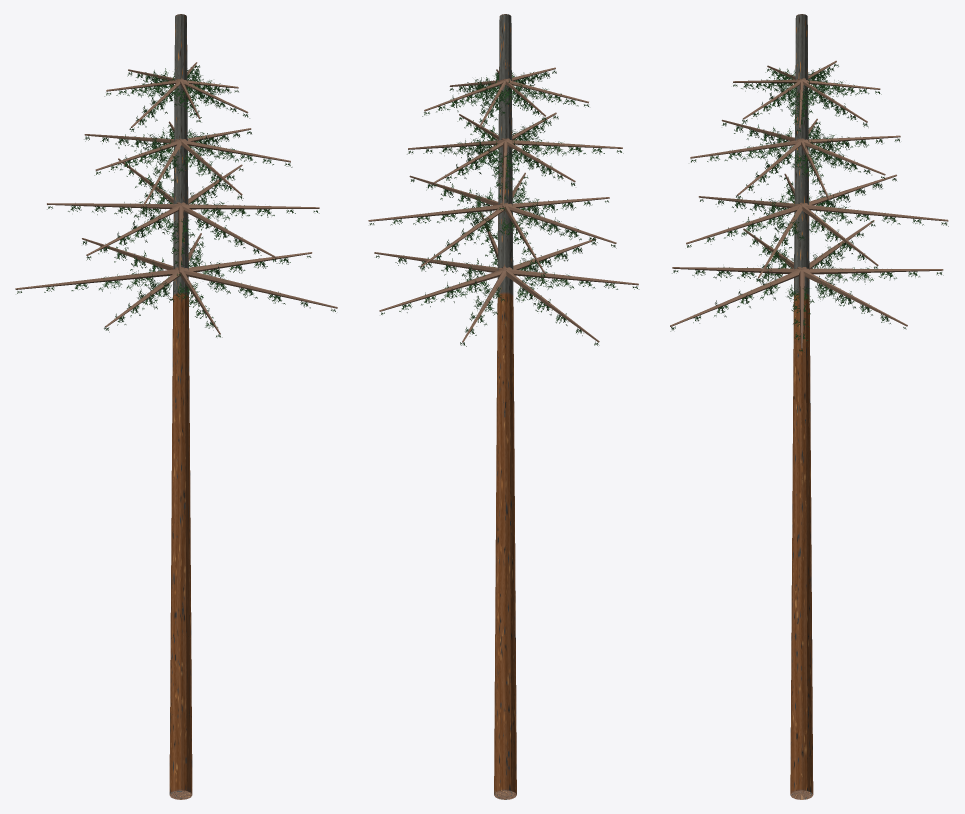
Rendered from Pinus_sylvestris_scots_pine.glb.
3 views of the same model, side by side, from view 1: azimuth 30°, elevation 25°; view 2: azimuth 150°, elevation 25°; view 3: azimuth 270°, elevation 25° (orthographic).
Parts seen in each view (by area): view 1: Trunk, Needle_Card_Clusters, Branch_04, Branch_01; view 2: Trunk, Needle_Card_Clusters, Branch_03, Branch_06, Branch_13, Branch_00, Branch_04; view 3: Trunk, Needle_Card_Clusters, Branch_01, Branch_12, Branch_05, Branch_02, Branch_06.
Part boxes in pixels (<box>): Trunk: <box>169,14,192,799</box>; Needle_Card_Clusters: <box>17,65,335,337</box>; Branch_04: <box>15,269,178,289</box>; Branch_01: <box>181,269,337,308</box>; Trunk: <box>494,14,516,799</box>; Needle_Card_Clusters: <box>369,70,639,346</box>; Branch_03: <box>505,268,638,285</box>; Branch_06: <box>379,269,505,311</box>; Branch_13: <box>368,204,505,221</box>; Branch_00: <box>374,252,503,272</box>; Branch_04: <box>504,269,599,342</box>; Trunk: <box>790,14,813,799</box>; Needle_Card_Clusters: <box>670,64,948,352</box>; Branch_01: <box>670,269,801,326</box>; Branch_12: <box>802,204,948,221</box>; Branch_05: <box>802,268,943,274</box>; Branch_02: <box>672,267,801,273</box>; Branch_06: <box>803,270,907,326</box>.
Bounding box in the file's own units: 6.34 × 18 × 5.89.
Materials: 2 (2 with a texture image).
